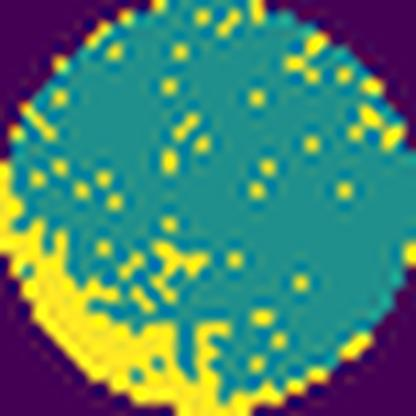Edge-Loc: (0, 153, 323, 416)
